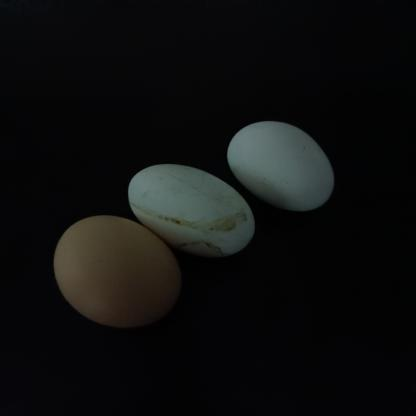egg: (50, 207, 180, 329), (122, 148, 266, 258), (223, 108, 348, 218)
